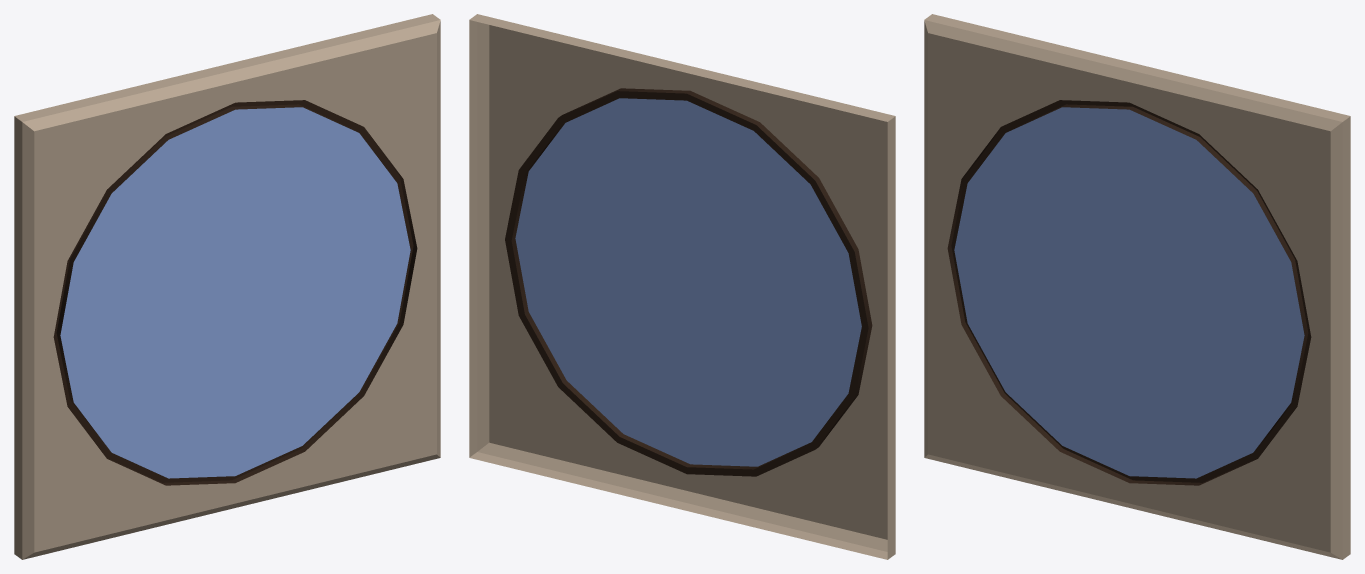
The model's file is floor-trigger.fbx.
The picture shows the model from 3 angles, left to right: view 1: azimuth 30°, elevation 25°; view 2: azimuth 150°, elevation 25°; view 3: azimuth 330°, elevation 25°; orthographic projection.
Visible parts, largest first — view 1: Cube; view 2: Cube; view 3: Cube.
Part boxes in pixels (x1,y1,x2,y2): Cube: (14, 14, 440, 559); Cube: (469, 14, 895, 559); Cube: (924, 14, 1350, 559).
Bounding box in the file's own units: 250 × 250 × 12.5.
